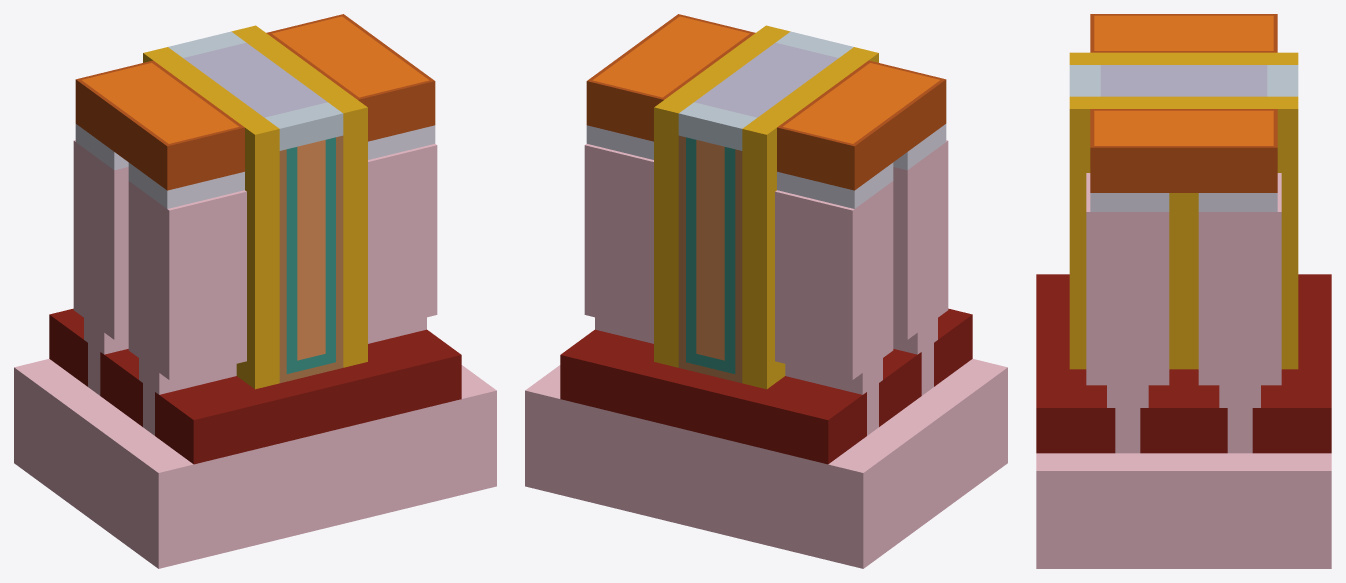
File: fin.obj
The picture shows the model from 3 angles, left to right: view 1: azimuth 30°, elevation 25°; view 2: azimuth 150°, elevation 25°; view 3: azimuth 270°, elevation 25°; orthographic projection. The views are drawn at different scales.
Parts seen in each view (by area): view 1: substrate, epi_source, sti, epi_drain, spacer_source, spacer_drain, liner_source, mo, ni_source, ni_drain, floor_wf, gatew (+5 smaller); view 2: substrate, epi_source, sti, epi_drain, spacer_source, spacer_drain, liner_source, mo, ni_source, ni_drain, floor_wf, gatew (+5 smaller); view 3: substrate, epi_drain, sti, spacer_drain, liner_drain, ni_source, ni_drain, gatew, nisi_drain, spacer_source, gatecap, fin1 (+2 smaller).
Boxes of the visible parts, x1=… form: substrate: x1=14, y1=359, x2=496, y2=568; epi_source: x1=73, y1=140, x2=246, y2=394; sti: x1=49, y1=308, x2=461, y2=464; epi_drain: x1=368, y1=144, x2=437, y2=343; spacer_source: x1=143, y1=47, x2=279, y2=389; spacer_drain: x1=231, y1=25, x2=367, y2=367; liner_source: x1=75, y1=60, x2=244, y2=190; mo: x1=297, y1=140, x2=325, y2=360; ni_source: x1=82, y1=63, x2=238, y2=143; ni_drain: x1=272, y1=16, x2=429, y2=97; floor_wf: x1=286, y1=137, x2=335, y2=373; gatew: x1=183, y1=42, x2=327, y2=117; substrate: x1=525, y1=359, x2=1007, y2=568; epi_source: x1=775, y1=140, x2=948, y2=394; sti: x1=560, y1=308, x2=972, y2=464; epi_drain: x1=584, y1=144, x2=653, y2=343; spacer_source: x1=742, y1=47, x2=878, y2=389; spacer_drain: x1=654, y1=25, x2=790, y2=367; liner_source: x1=777, y1=60, x2=946, y2=190; mo: x1=696, y1=140, x2=724, y2=360; ni_source: x1=783, y1=63, x2=939, y2=143; ni_drain: x1=592, y1=16, x2=749, y2=97; floor_wf: x1=686, y1=137, x2=735, y2=373; gatew: x1=694, y1=42, x2=838, y2=117; substrate: x1=1036, y1=453, x2=1331, y2=568; epi_drain: x1=1086, y1=173, x2=1281, y2=407; sti: x1=1036, y1=274, x2=1331, y2=453; spacer_drain: x1=1069, y1=96, x2=1298, y2=369; liner_drain: x1=1090, y1=109, x2=1277, y2=192; ni_source: x1=1094, y1=15, x2=1273, y2=50; ni_drain: x1=1094, y1=110, x2=1273, y2=145; gatew: x1=1100, y1=65, x2=1267, y2=96; nisi_drain: x1=1090, y1=193, x2=1277, y2=211; spacer_source: x1=1069, y1=52, x2=1298, y2=64; gatecap: x1=1069, y1=65, x2=1298, y2=96; fin1: x1=1227, y1=408, x2=1252, y2=453.
Bounding box in the file's own units: 96 × 107 × 71.
